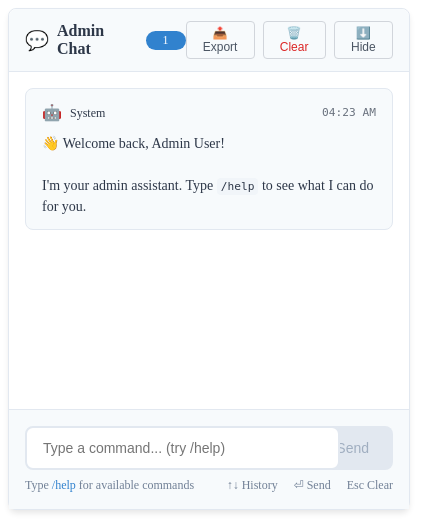
Scenario: ChatPanel Component › Minimize/Maximize Functionality › should toggle minimize state
Click the button "⬇️ Hide": (363, 40) [334,21,393,59]
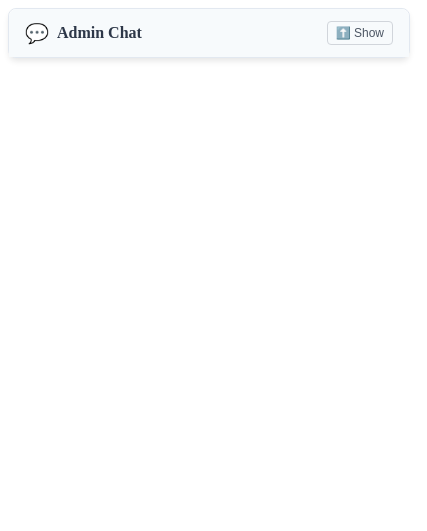
Expected: the field with placeholder "Type a command... (try /help)" is not shown
Result: the button "⬆️ Show" is shown at [327,21,393,45]
